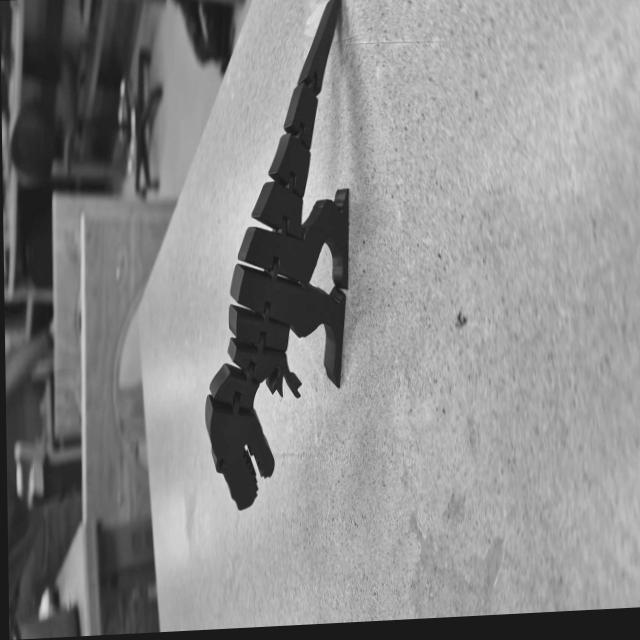dino: (198, 0, 354, 513)
